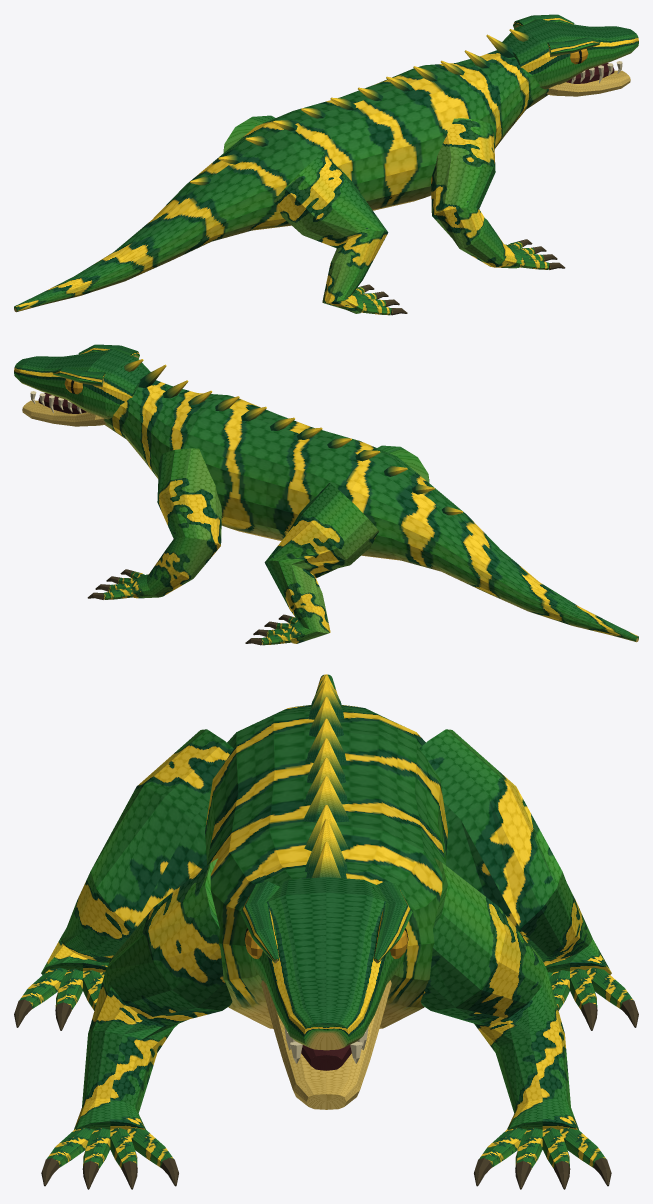
File: lagarto-papagaio-v01.glb
The picture shows the model from 3 angles, top to bottom: view 1: azimuth 30°, elevation 25°; view 2: azimuth 150°, elevation 25°; view 3: azimuth 270°, elevation 25°; orthographic projection. The views are drawn at different scales.
Parts seen in each view (by area): view 1: LagartoPapagaio_v01; view 2: LagartoPapagaio_v01; view 3: LagartoPapagaio_v01.
Part boxes in pixels (bbox=[...]): LagartoPapagaio_v01: bbox=[14, 14, 638, 315]; LagartoPapagaio_v01: bbox=[14, 344, 638, 645]; LagartoPapagaio_v01: bbox=[14, 674, 638, 1189].
Size of the model in its own units: 5.66 by 1.61 by 2.51.
Materials: 1 (1 with a texture image).
